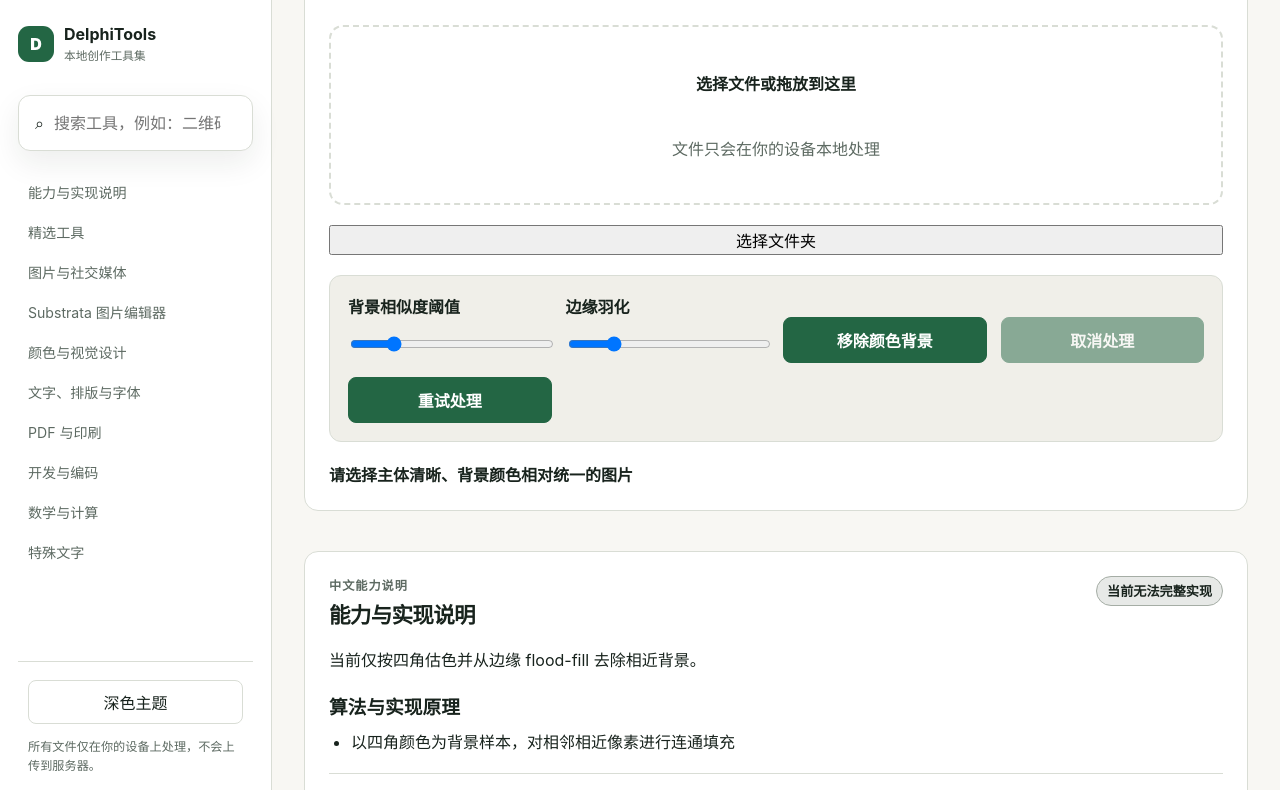
Test: 六条高级媒体路由 › 背景移除如实说明不是 AI 并支持取消和重试
The width and height of the screenshot is (1280, 790).
(page scrolled)
expect the button "取消处理" is disabled: met, box [1000, 318, 1204, 364]
Click the button "重试处理" at (450, 400), box [348, 378, 552, 424]
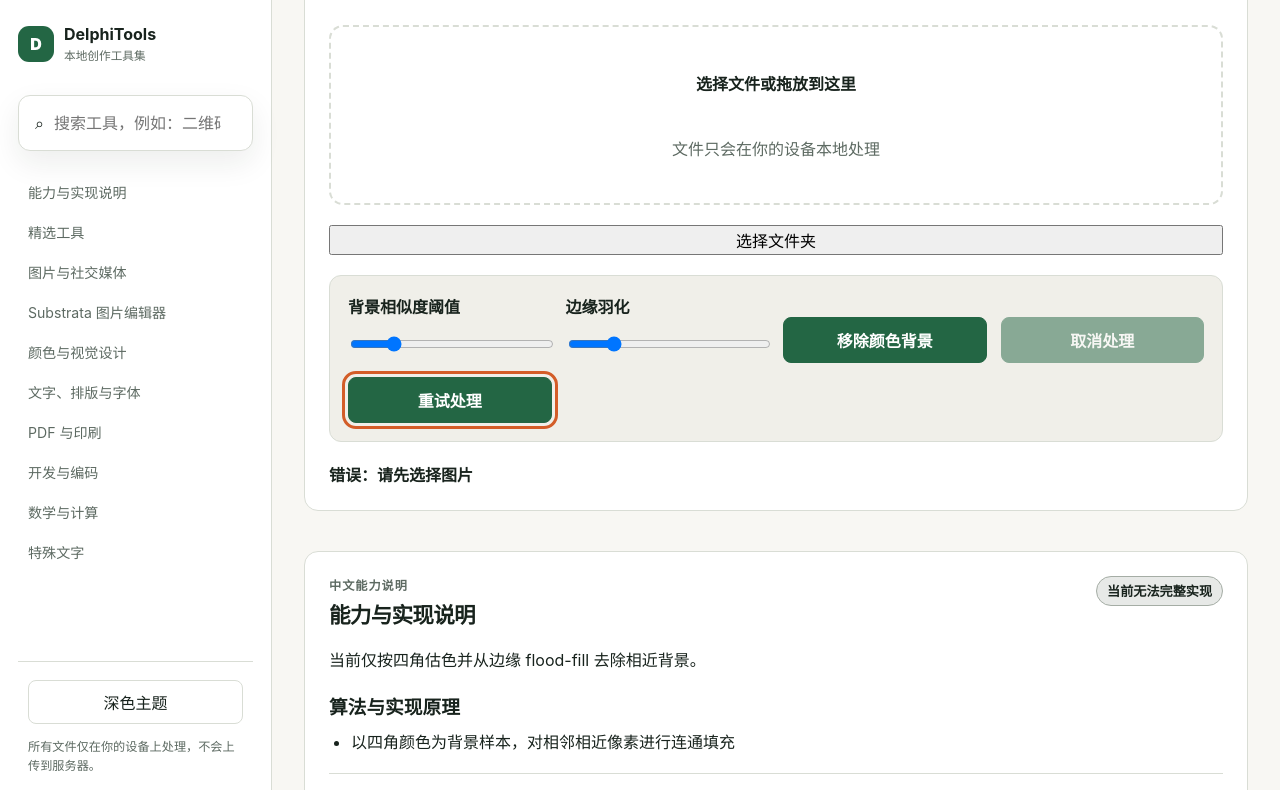
expect the message reads "请先选择图片": met, box [377, 466, 473, 486]
